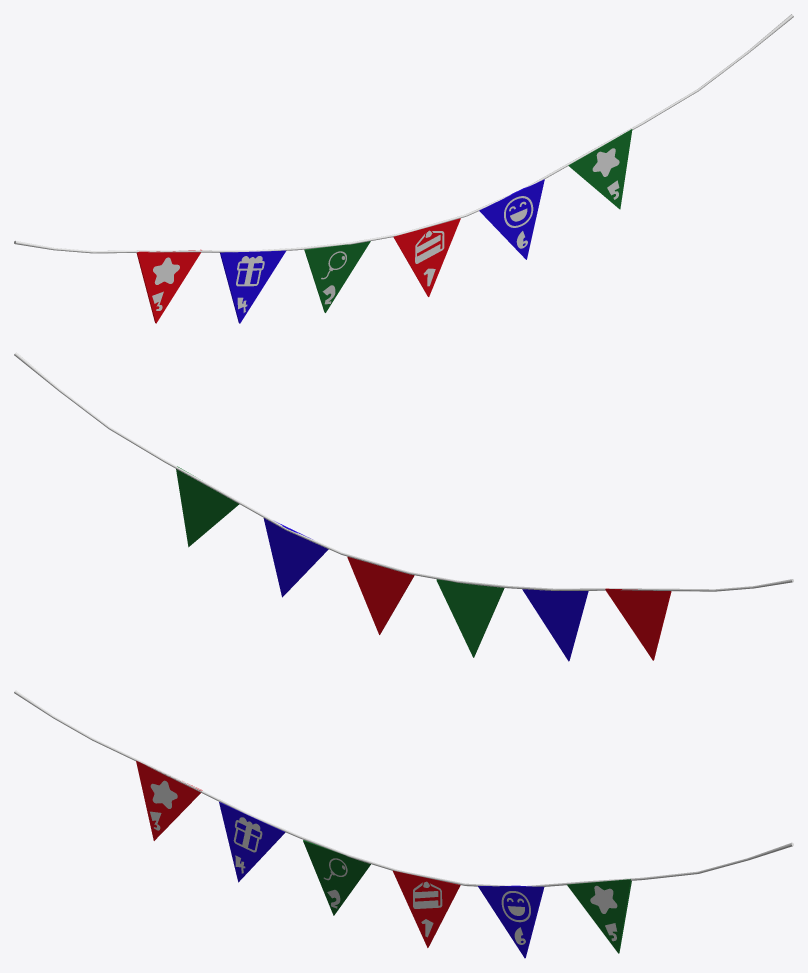
File: Benlande.fbx
3 views of the same model, one above another, from view 1: azimuth 30°, elevation 25°; view 2: azimuth 150°, elevation 25°; view 3: azimuth 330°, elevation 25° (orthographic).
Visible parts, largest first — view 1: Schnurr, 6-Smile, 2-Ballon, 4-Geschenk, 1-Kuchen, 3-Stern, 5-Stern; view 2: 2-Ballon, Schnurr, 3-Stern, 1-Kuchen, 4-Geschenk, 6-Smile, 5-Stern; view 3: Schnurr, 6-Smile, 2-Ballon, 4-Geschenk, 5-Stern, 1-Kuchen, 3-Stern, Kuchen, Geschenk.
Part boxes in pixels (left/top/right/bottom): Schnurr: left=14, top=14, right=793, bottom=253; 6-Smile: left=479, top=179, right=544, bottom=259; 2-Ballon: left=304, top=241, right=370, bottom=312; 4-Geschenk: left=220, top=250, right=285, bottom=323; 1-Kuchen: left=393, top=218, right=460, bottom=296; 3-Stern: left=136, top=249, right=201, bottom=323; 5-Stern: left=568, top=129, right=632, bottom=209; 2-Ballon: left=436, top=579, right=504, bottom=657; Schnurr: left=14, top=352, right=793, bottom=591; 3-Stern: left=605, top=588, right=671, bottom=660; 1-Kuchen: left=347, top=557, right=414, bottom=634; 4-Geschenk: left=522, top=589, right=588, bottom=661; 6-Smile: left=263, top=518, right=328, bottom=597; 5-Stern: left=176, top=466, right=239, bottom=547; Schnurr: left=14, top=690, right=793, bottom=886; 6-Smile: left=478, top=885, right=544, bottom=958; 2-Ballon: left=303, top=840, right=370, bottom=915; 4-Geschenk: left=219, top=802, right=285, bottom=882; 5-Stern: left=567, top=879, right=631, bottom=953; 1-Kuchen: left=393, top=870, right=460, bottom=947; 3-Stern: left=136, top=760, right=202, bottom=840; Kuchen: left=413, top=881, right=442, bottom=908; Geschenk: left=233, top=817, right=262, bottom=852.
Size of the model in its own units: 2324 by 553 by 32.7.
